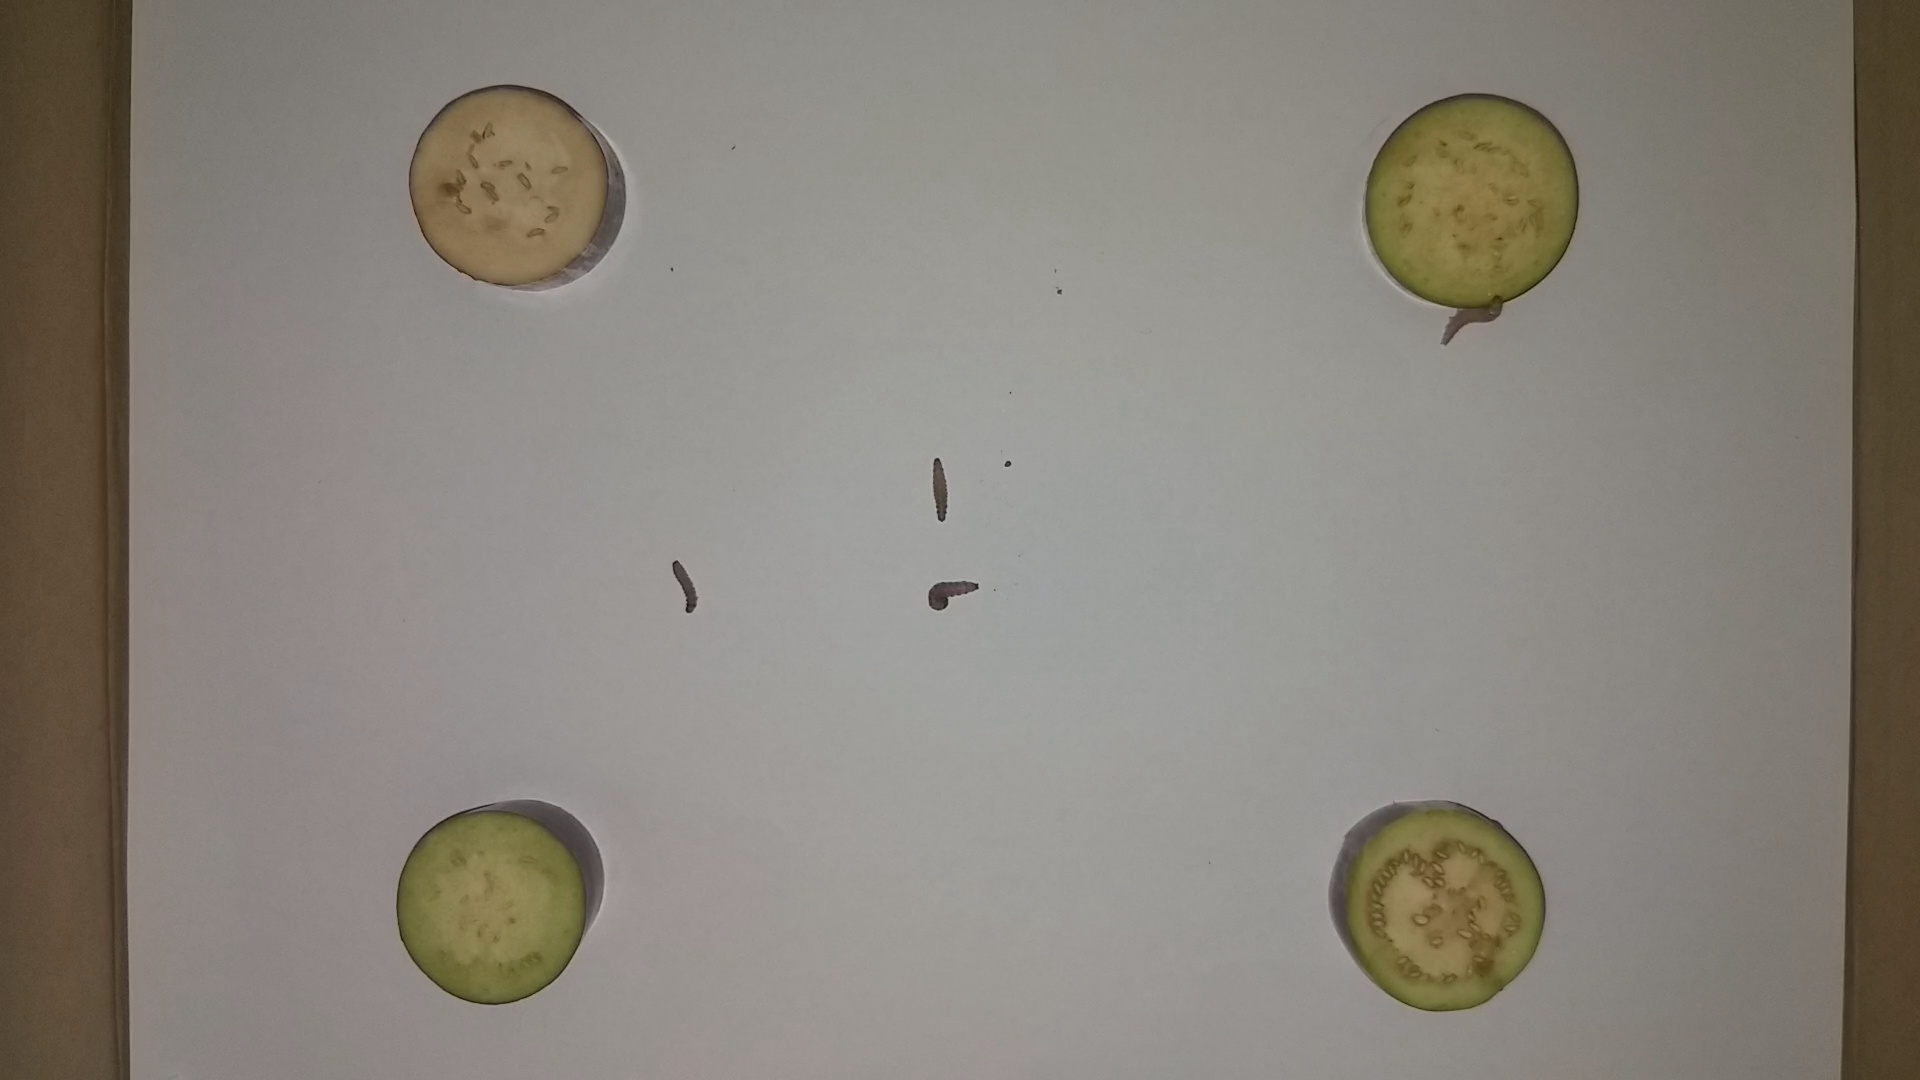efsb: (1437, 287, 1513, 352), (920, 572, 986, 620), (667, 547, 703, 625), (928, 450, 953, 524)
eggplant: (1319, 785, 1557, 1026), (1360, 80, 1589, 324), (389, 794, 617, 1022), (398, 76, 634, 295)
